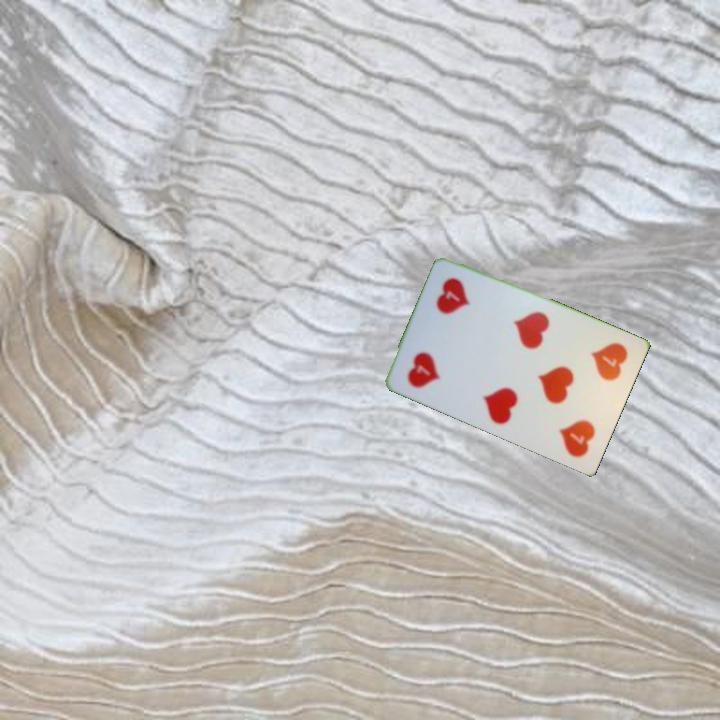h_7.png: (394, 321, 472, 403), (559, 325, 637, 407)
